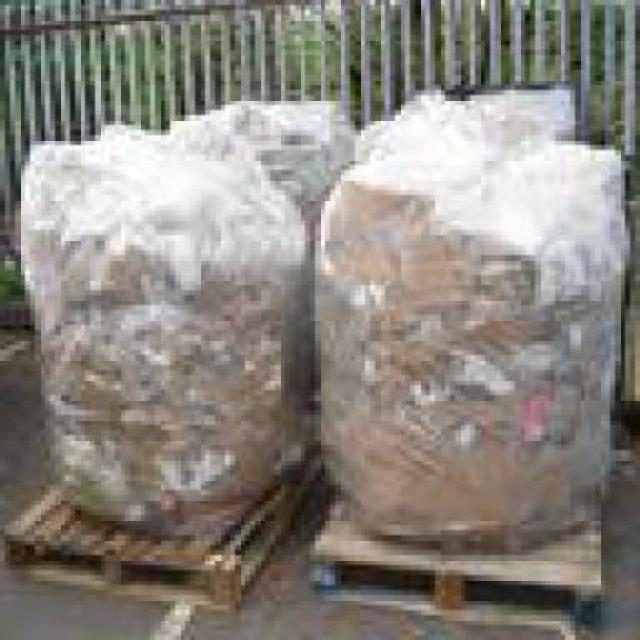CARDBOARD: (310, 175, 605, 554), (20, 224, 315, 536), (254, 146, 346, 206)
PLASTIC: (345, 80, 620, 275), (15, 121, 290, 230), (160, 90, 335, 155), (460, 80, 571, 135)
